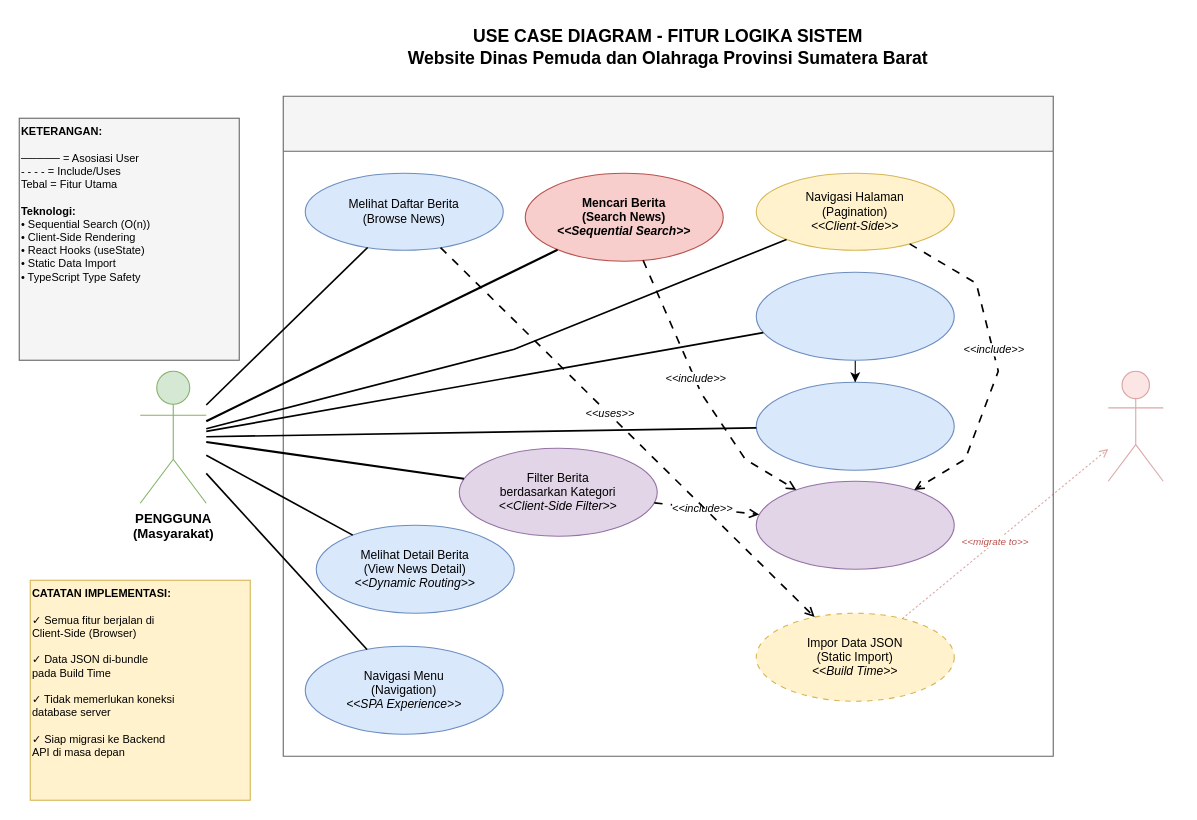
Image size: 1197x820. Some labels were removed from this diagram. The box of each missing label's shape, as (x1, y1, x2, y2) in pixels:
BACKEND API (Future): (1107, 370, 1163, 481)
Manajemen State (State Management) <<React Hooks>>: (755, 480, 954, 569)
Melihat Galeri (View Gallery) <<Filter by Category>>: (755, 381, 954, 470)
SISTEM WEBSITE DISPORA SUMBAR (Client-Side Logic): (282, 95, 1053, 756)
Unduh Dokumen Publik (Download Documents) <<PPID>>: (755, 271, 954, 360)
